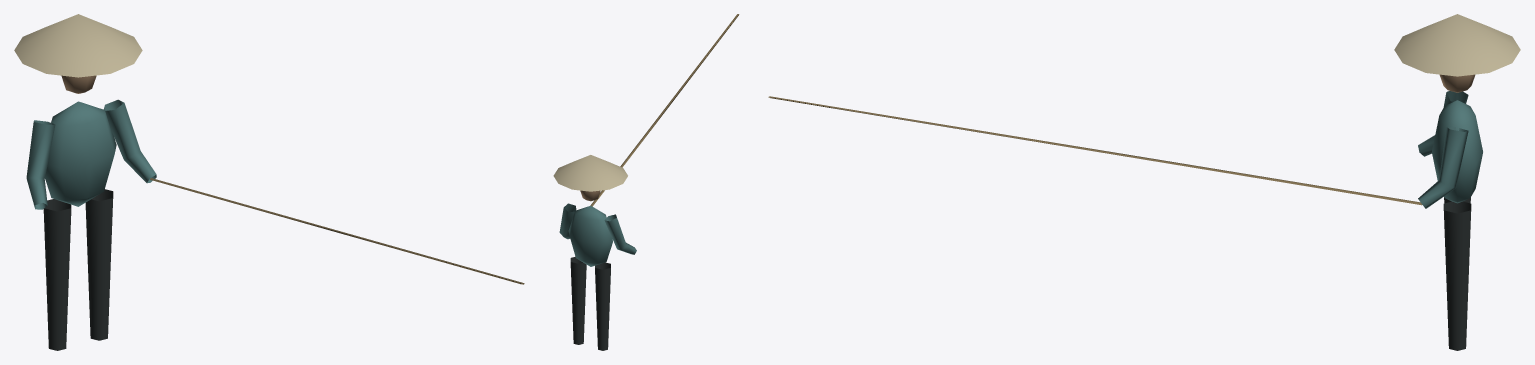
Rendered from angler-0.glb.
3 views of the same model, side by side, from view 1: azimuth 30°, elevation 25°; view 2: azimuth 150°, elevation 25°; view 3: azimuth 270°, elevation 25° (orthographic). The views are drawn at different scales.
Visible parts, largest first — view 1: angler; view 2: angler; view 3: angler.
Boxes of the visible parts, box(x1,y1,x2,y2) form: angler: box(14, 14, 524, 350); angler: box(553, 14, 739, 350); angler: box(768, 14, 1520, 350).
Size of the model in its own units: 0.913 by 1.8 by 3.8.
